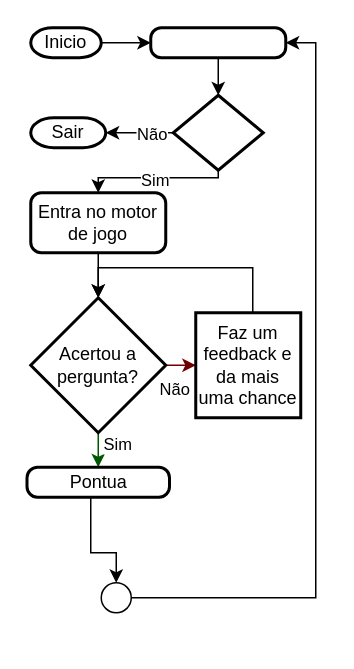
Some shapes in this 354 by 669 pixel diagram are drawn without their labels. Each missing label, with the box of its shape:
Jogar?: (171, 93, 264, 171)
Menu principal: (148, 26, 286, 58)
Somatória de Pontos: (100, 581, 131, 613)
